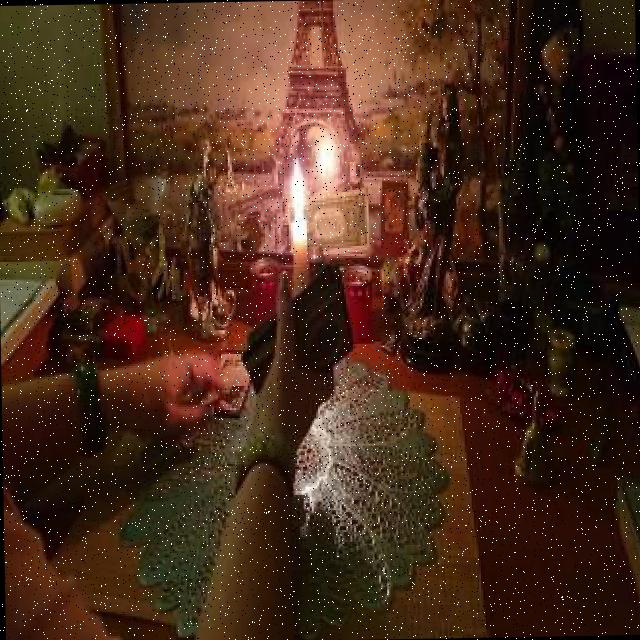fire: (284, 158, 310, 222)
